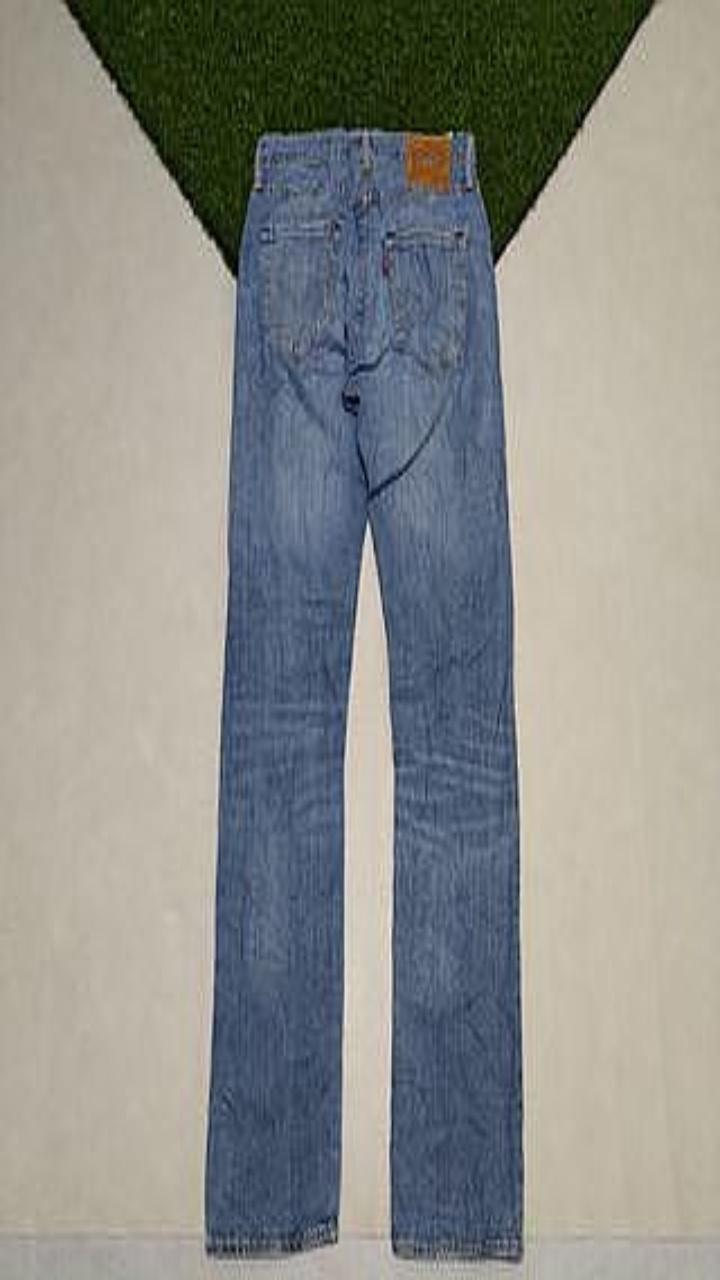Jeans: (205, 127, 523, 1259)
